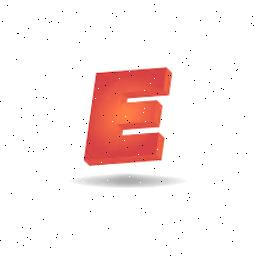e: (82, 65, 178, 179)
